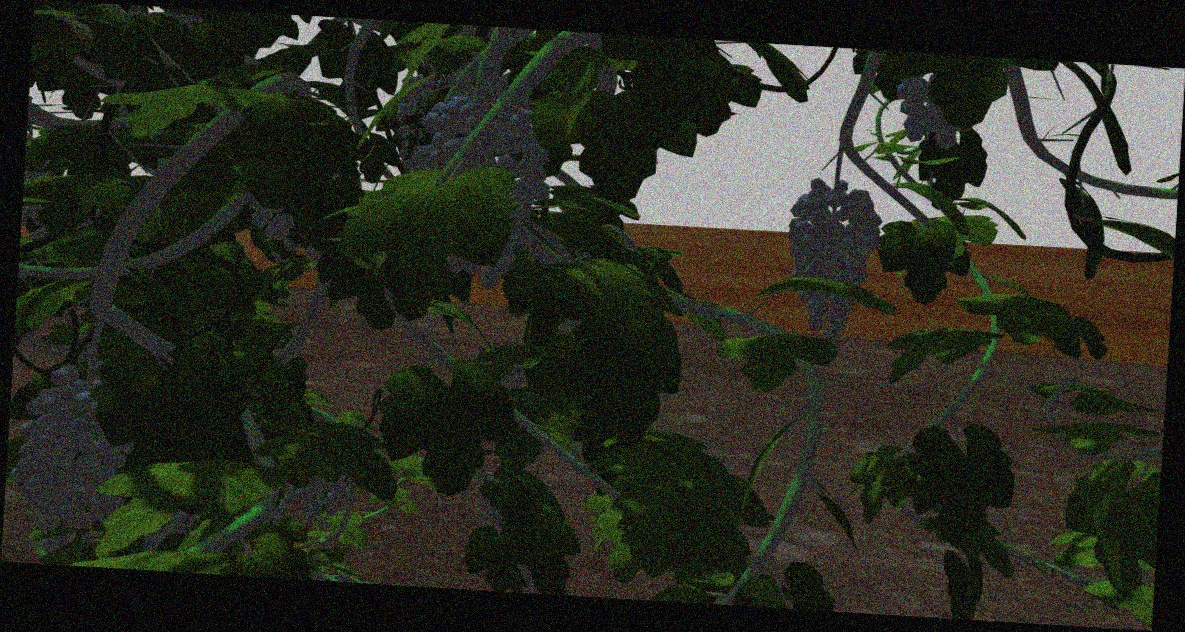grape: (421, 100, 545, 279), (12, 366, 129, 553), (784, 181, 878, 342), (894, 81, 969, 148)
